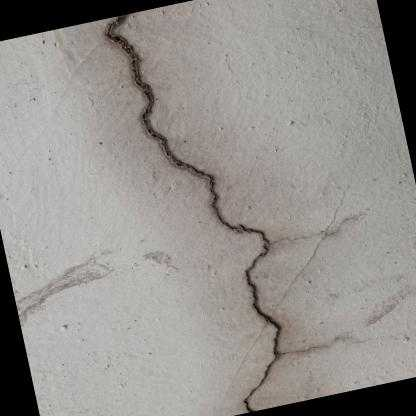crack: (103, 12, 283, 412)
